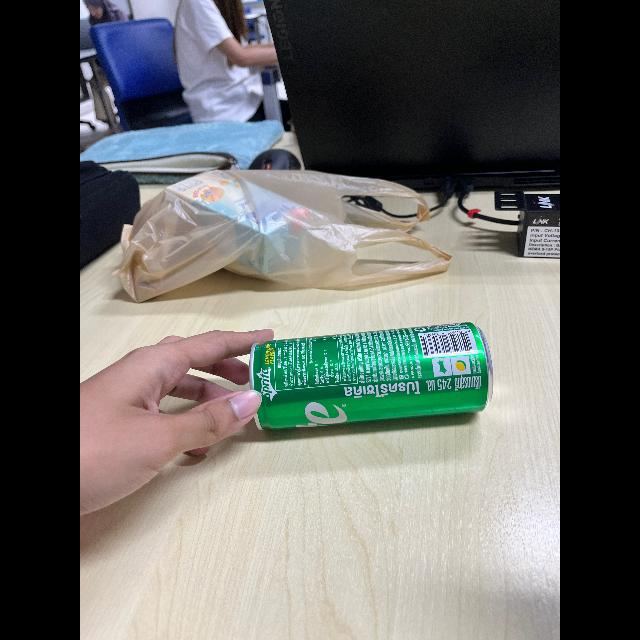can: (233, 320, 512, 430)
